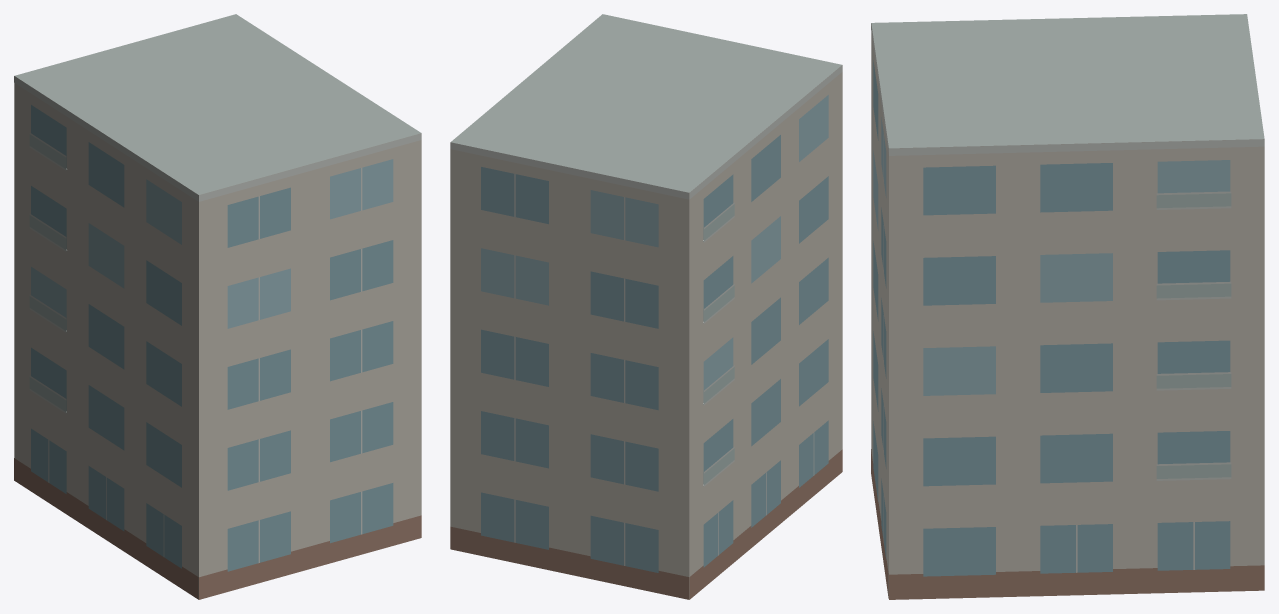
Rendered from survey-upis-32724173.glb.
3 views of the same model, side by side, from view 1: azimuth 30°, elevation 25°; view 2: azimuth 150°, elevation 25°; view 3: azimuth 270°, elevation 25° (orthographic). The views are drawn at different scales.
Visible parts, largest first — view 1: survey-upis-32724173.tmp; view 2: survey-upis-32724173.tmp; view 3: survey-upis-32724173.tmp.
Boxes of the visible parts, x1,y1,x2,y2 form: survey-upis-32724173.tmp: [14, 14, 421, 599]; survey-upis-32724173.tmp: [450, 14, 842, 599]; survey-upis-32724173.tmp: [871, 14, 1264, 599].
Size of the model in its own units: 9.27 by 14.5 by 11.46.
